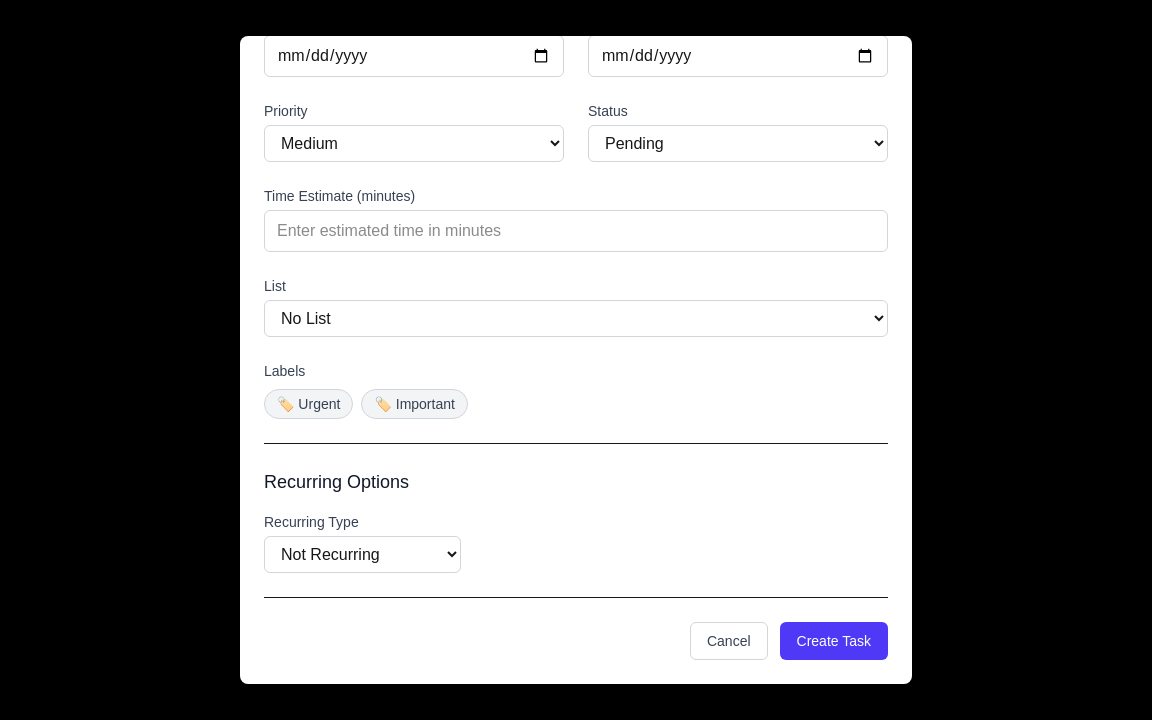
TaskForm › validates required task name
(page scrolled)
Click the button "Create Task": point(834, 641) [780, 622, 888, 660]
(page scrolled)
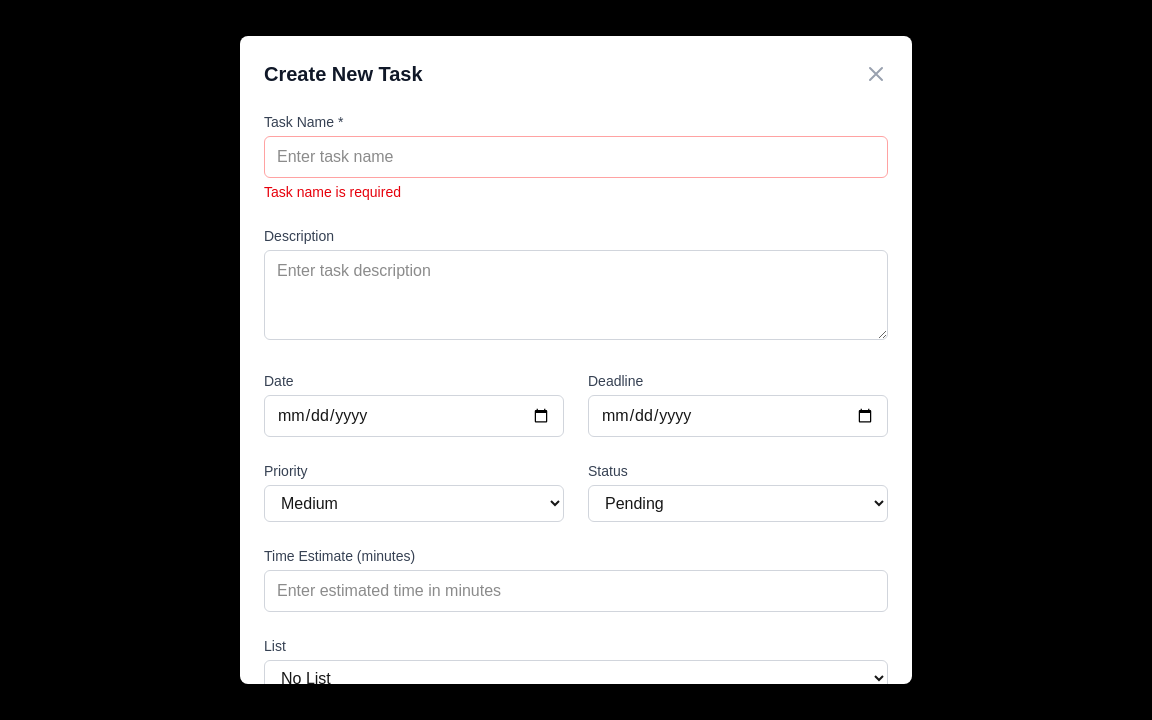
Expected: the text "Task name is required" is shown, [264, 184, 401, 200]
